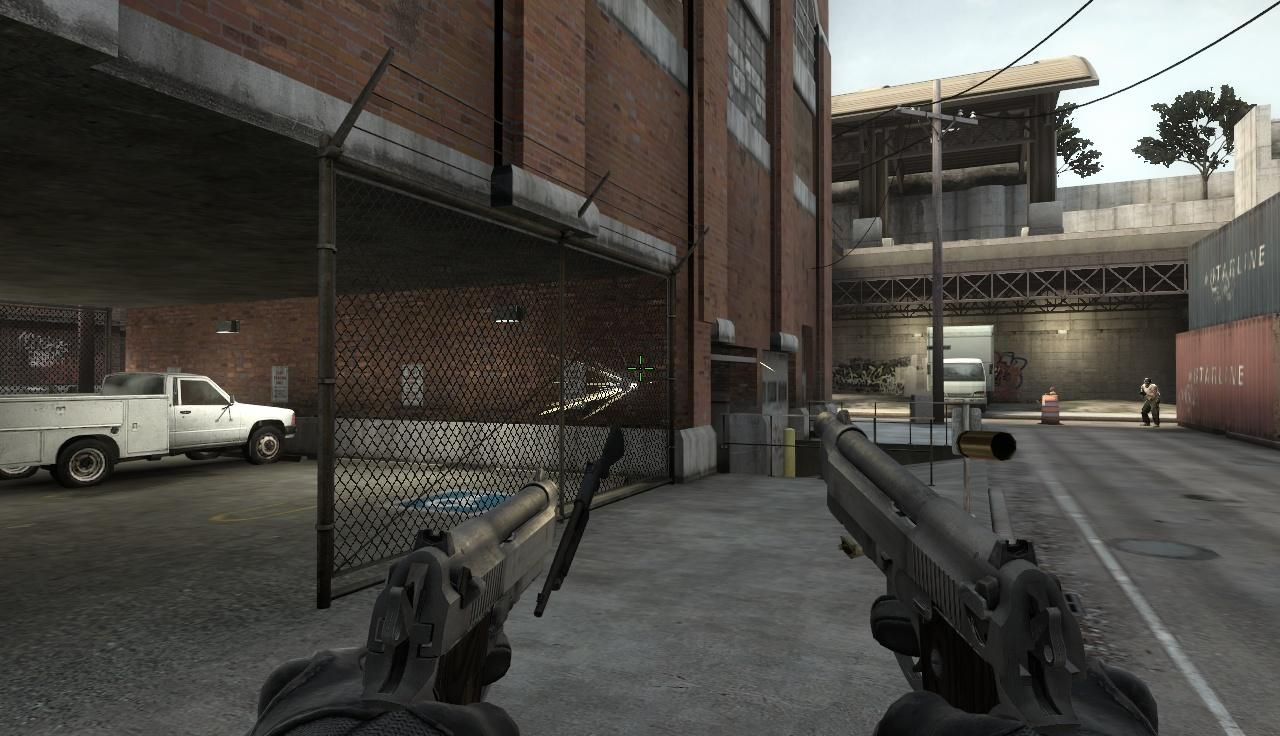pistol: (807, 404, 1162, 732)
tt: (1140, 379, 1159, 428)
tthead: (1145, 378, 1151, 387)
